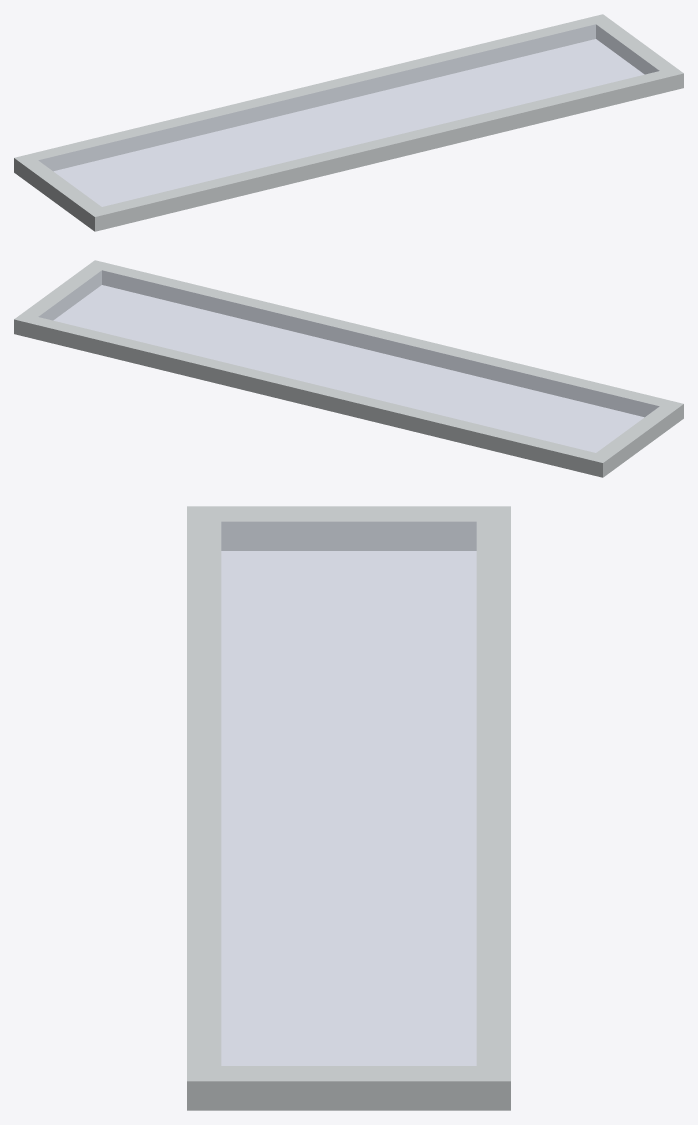
Rendered from long shelf with glass white.glb.
The picture shows the model from 3 angles, top to bottom: view 1: azimuth 30°, elevation 25°; view 2: azimuth 150°, elevation 25°; view 3: azimuth 270°, elevation 25°; orthographic projection. The views are drawn at different scales.
Visible parts, largest first — view 1: long table glass white; view 2: long table glass white; view 3: long table glass white.
Part boxes in pixels (box(x1,y1,x2,y2)): long table glass white: box(14, 14, 683, 231); long table glass white: box(14, 260, 683, 477); long table glass white: box(187, 506, 510, 1110).
Bounding box in the file's own units: 4.2 × 0.1 × 1.
